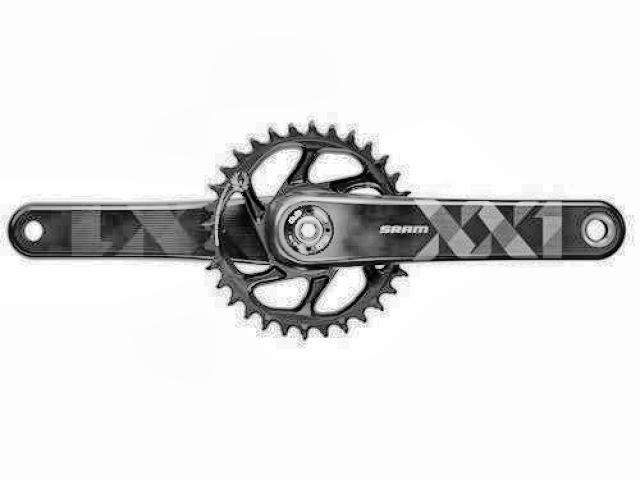cranks_set: (200, 118, 627, 341)
